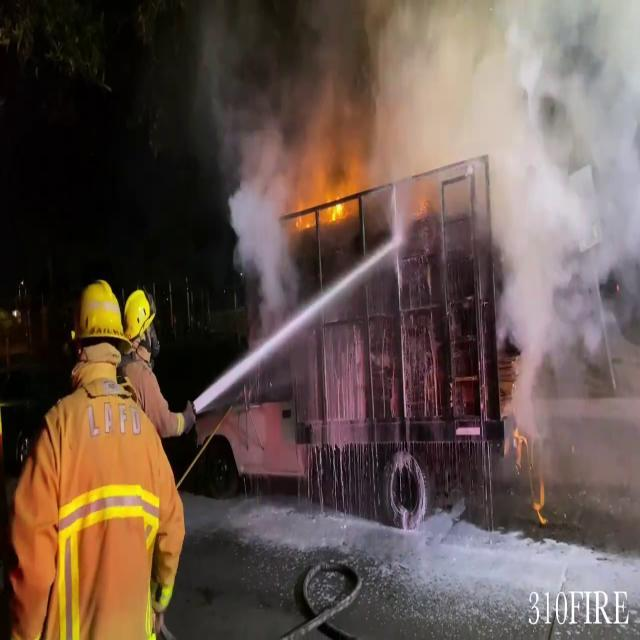Fire: (294, 181, 356, 231)
Smoke: (404, 0, 640, 424), (189, 0, 524, 276)
